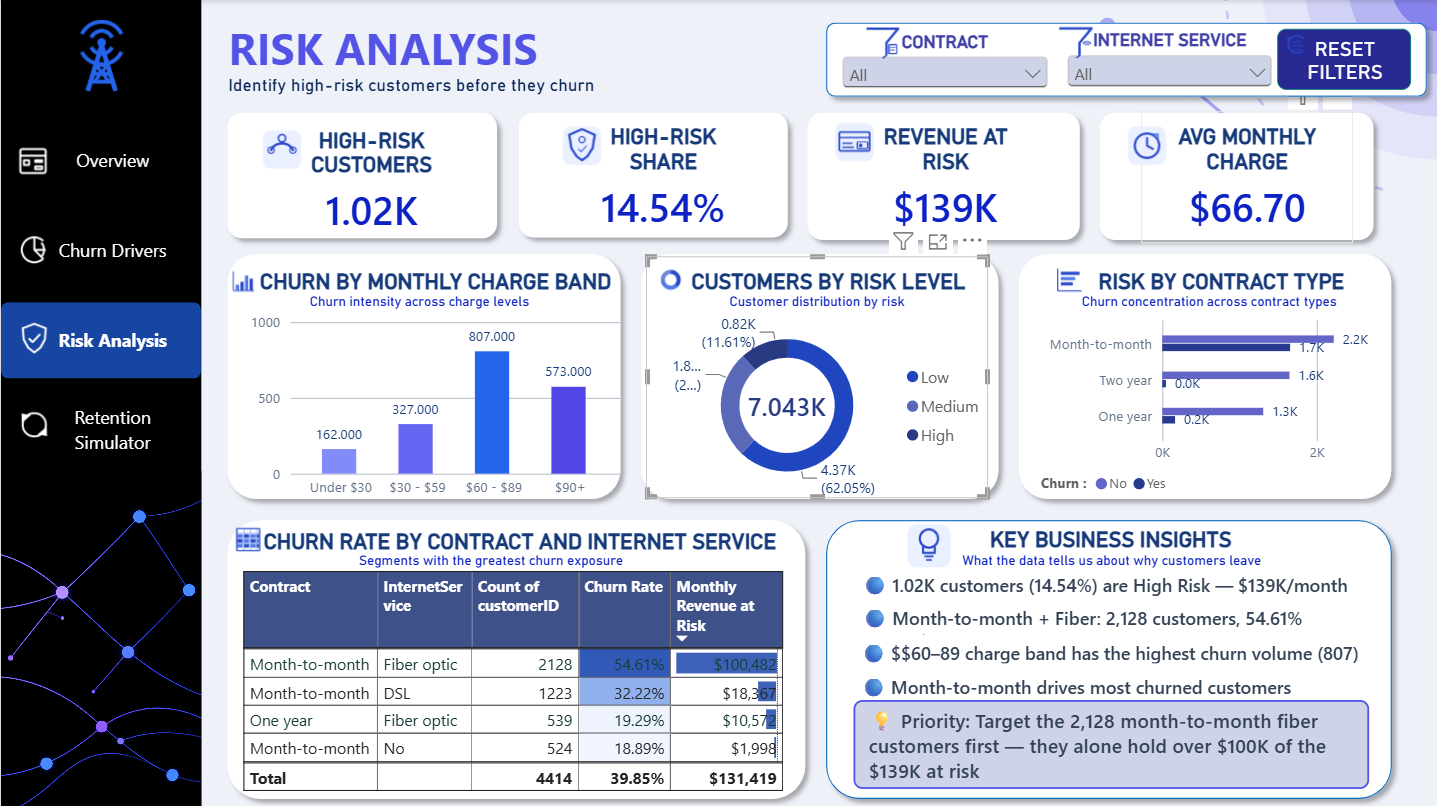

Layout of this report page (visuals, bound fields, positions):
{"tool":"powerbi","page":{"name":"Risk Analysis","canvas":[1280,720],"ordinal":2},"visuals":[{"type":"image","box":[947,0,333,170.1],"z":0},{"type":"shape","box":[0,0,178.6,720.2],"z":1000},{"type":"textbox","title":"RISK ANALYSIS","box":[202.2,16.7,338.9,52.2],"z":2000},{"type":"textbox","title":"Identify high-risk customers before they churn","box":[202.7,66.4,540.5,25.3],"z":3000},{"type":"shape","box":[192.7,91.8,258.2,130],"z":4000},{"type":"shape","box":[725.5,453.6,521.8,266.4],"z":5000},{"type":"textbox","title":"KEY BUSINESS INSIGHTS","box":[869.8,470,237.7,25.3],"z":6000},{"type":"textbox","title":"What the data tells us about why customers leave","box":[828.8,492.2,319.7,25.3],"z":7000},{"type":"cardVisual","title":"HIGH-RISK CUSTOMERS","fields":{"Data":["_Measures.High Risk Customers"]},"box":[236.5,102.5,188.2,118.2],"z":8000},{"type":"shape","box":[451.5,91.5,257.7,129.2],"z":9000},{"type":"shape","box":[970,91.7,261.8,131.5],"z":10000},{"type":"shape","box":[709.4,91.7,260.6,131.5],"z":11000},{"type":"cardVisual","title":"HIGH-RISK SHARE","fields":{"Data":["_Measures.High Risk Share"]},"box":[517.6,98.9,144.8,118.2],"z":12000},{"type":"cardVisual","title":"REVENUE AT RISK","fields":{"Data":["_Measures.Monthly Revenue at Risk"]},"box":[766.1,98.9,150.8,118.2],"z":13000},{"type":"cardVisual","title":"AVG MONTHLY CHARGE","fields":{"Data":["_Measures.Avg Monthly Charge - High Risk"]},"box":[1015,98.8,189.4,118.2],"z":14000},{"type":"shape","box":[726,11,553,84],"z":15000},{"type":"slicer","title":"CONTRACT","fields":{"Values":["Telco_Churn.Contract"]},"box":[745,20,191.8,67.6],"z":16000},{"type":"slicer","title":"INTERNET SERVICE","fields":{"Values":["Telco_Churn.InternetService"]},"box":[945,19.2,191.7,67.5],"z":17000},{"type":"shape","box":[192.7,217.3,368.2,236.4],"z":18000},{"type":"shape","box":[560.9,217.3,336.4,236.4],"z":19000},{"type":"clusteredColumnChart","title":"CHURN BY MONTHLY CHARGE BAND","fields":{"Category":["Telco_Churn.Monthly Charge Band"],"Y":["_Measures.Churned Customers"]},"box":[202.3,227.9,348.8,218.6],"z":20000},{"type":"shape","box":[897.3,217.3,350,236.4],"z":21000},{"type":"clusteredBarChart","title":"RISK BY CONTRACT TYPE","fields":{"Category":["Telco_Churn.Contract"],"Series":["Telco_Churn.Churn"],"Y":["_Measures.Total Customers"]},"box":[906,228,341.4,216],"z":22000},{"type":"textbox","title":"Churn concentration across contract types","box":[944.6,261.8,261.8,25.3],"z":23000},{"type":"shape","box":[192.7,453.6,532.7,266.4],"z":24000},{"type":"tableEx","title":"CHURN RATE BY CONTRACT AND INTERNET SERVICE","fields":{"Values":["Telco_Churn.Contract","Telco_Churn.InternetService","Telco_Churn.customerID","_Measures.Churn Rate","_Measures.Monthly Revenue at Risk"]},"box":[212.3,470.5,497.1,237.7],"z":25000},{"type":"textbox","title":"Segments with the greatest churn exposure","box":[289.5,492.2,294,25],"z":26000},{"type":"actionButton","title":"RESET FILTERS","box":[1136.7,26,119.2,54.2],"z":27000},{"type":"actionButton","box":[226.8,106.2,46.2,55],"z":28000},{"type":"actionButton","box":[494.6,102.5,46.2,55],"z":29000},{"type":"actionButton","box":[737.1,98.9,46.2,55],"z":30000},{"type":"actionButton","box":[997.7,102.5,46.2,55],"z":31000},{"type":"actionButton","box":[799.9,459.7,51.9,45.8],"z":32000},{"type":"actionButton","box":[761.3,13.3,47.1,41],"z":33000},{"type":"actionButton","box":[932.6,13.3,48.3,38.6],"z":34000},{"type":"actionButton","box":[1136.7,13.3,35,40.8],"z":35000},{"type":"donutChart","title":"CUSTOMERS BY RISK LEVEL","fields":{"Category":["Telco_Churn.Risk Level"],"Y":["CountNonNull(Telco_Churn.customerID)"]},"box":[574.3,228,305.2,216],"z":36000},{"type":"textbox","title":"Customer distribution by risk","box":[596,261.8,262.3,16.9],"z":37000},{"type":"textbox","title":"Churn intensity across charge levels","box":[241.3,261.8,262.3,16.9],"z":38000},{"type":"textbox","title":"🔵 1.02K customers (14.54%) are High Risk — $139K/month","box":[761.3,510.3,452.4,29],"z":39000},{"type":"textbox","title":"🔵 Month-to-month + Fiber: 2,128 customers, 54.61% churn, $100K at risk","box":[761.3,539.3,446.7,26.7],"z":40000},{"type":"textbox","title":"🔵 $$60–89 charge band has the highest churn volume (807)","box":[760.1,569.4,457.2,20.5],"z":41000},{"type":"textbox","title":"🔵 Month-to-month drives most churned customers across contract types","box":[760.1,599.6,436.7,20.5],"z":42000},{"type":"textbox","title":"💡 Priority: Target the 2,128 month-to-month fiber customers first — they alone hold over $100K of the $139K at risk","box":[759.2,623,459.3,79.1],"z":43000},{"type":"actionButton","box":[199.1,223.6,33.6,46.4],"z":44000},{"type":"actionButton","box":[577.9,223.2,37.4,51.9],"z":45000},{"type":"actionButton","box":[932.6,223.2,37.4,51.9],"z":46000},{"type":"actionButton","box":[201.8,453.6,37.3,45.5],"z":47000},{"type":"pageNavigator","box":[0,108.6,178.6,311],"z":48000},{"type":"actionButton","box":[6,117,45.8,53.1],"z":49000},{"type":"actionButton","box":[6.2,195.4,45.8,53.1],"z":50000},{"type":"actionButton","box":[6.2,275.4,45.8,53.1],"z":51000},{"type":"actionButton","box":[6.2,352.3,45.8,53.1],"z":52000},{"type":"actionButton","box":[14.5,6,149.6,98.9],"z":53000},{"type":"image","box":[0,419.6,178.6,300.4],"z":54000}]}

Visuals, with their boxes on the page's 1280x720 design canvas (x1, y1, x2, y2). These are canvas units, not pixel positions in the 1437x806 screenshot, which may show the page scaled, cropped or inside an application window:
image: {"left": 947, "top": 0, "right": 1280, "bottom": 170}
shape: {"left": 0, "top": 0, "right": 179, "bottom": 720}
"RISK ANALYSIS" textbox: {"left": 202, "top": 17, "right": 541, "bottom": 69}
"Identify high-risk customers before they churn" textbox: {"left": 203, "top": 66, "right": 743, "bottom": 92}
shape: {"left": 193, "top": 92, "right": 451, "bottom": 222}
shape: {"left": 726, "top": 454, "right": 1247, "bottom": 720}
"KEY BUSINESS INSIGHTS" textbox: {"left": 870, "top": 470, "right": 1108, "bottom": 495}
"What the data tells us about why customers leave" textbox: {"left": 829, "top": 492, "right": 1148, "bottom": 518}
"HIGH-RISK CUSTOMERS" cardVisual: {"left": 236, "top": 102, "right": 425, "bottom": 221}
shape: {"left": 452, "top": 92, "right": 709, "bottom": 221}
shape: {"left": 970, "top": 92, "right": 1232, "bottom": 223}
shape: {"left": 709, "top": 92, "right": 970, "bottom": 223}
"HIGH-RISK SHARE" cardVisual: {"left": 518, "top": 99, "right": 662, "bottom": 217}
"REVENUE AT RISK" cardVisual: {"left": 766, "top": 99, "right": 917, "bottom": 217}
"AVG MONTHLY CHARGE" cardVisual: {"left": 1015, "top": 99, "right": 1204, "bottom": 217}
shape: {"left": 726, "top": 11, "right": 1279, "bottom": 95}
"CONTRACT" slicer: {"left": 745, "top": 20, "right": 937, "bottom": 88}
"INTERNET SERVICE" slicer: {"left": 945, "top": 19, "right": 1137, "bottom": 87}
shape: {"left": 193, "top": 217, "right": 561, "bottom": 454}
shape: {"left": 561, "top": 217, "right": 897, "bottom": 454}
"CHURN BY MONTHLY CHARGE BAND" clusteredColumnChart: {"left": 202, "top": 228, "right": 551, "bottom": 446}
shape: {"left": 897, "top": 217, "right": 1247, "bottom": 454}
"RISK BY CONTRACT TYPE" clusteredBarChart: {"left": 906, "top": 228, "right": 1247, "bottom": 444}
"Churn concentration across contract types" textbox: {"left": 945, "top": 262, "right": 1206, "bottom": 287}
shape: {"left": 193, "top": 454, "right": 725, "bottom": 720}
"CHURN RATE BY CONTRACT AND INTERNET SERVICE" tableEx: {"left": 212, "top": 470, "right": 709, "bottom": 708}
"Segments with the greatest churn exposure" textbox: {"left": 290, "top": 492, "right": 584, "bottom": 517}
"RESET FILTERS" actionButton: {"left": 1137, "top": 26, "right": 1256, "bottom": 80}
actionButton: {"left": 227, "top": 106, "right": 273, "bottom": 161}
actionButton: {"left": 495, "top": 102, "right": 541, "bottom": 158}
actionButton: {"left": 737, "top": 99, "right": 783, "bottom": 154}
actionButton: {"left": 998, "top": 102, "right": 1044, "bottom": 158}
actionButton: {"left": 800, "top": 460, "right": 852, "bottom": 506}
actionButton: {"left": 761, "top": 13, "right": 808, "bottom": 54}
actionButton: {"left": 933, "top": 13, "right": 981, "bottom": 52}
actionButton: {"left": 1137, "top": 13, "right": 1172, "bottom": 54}
"CUSTOMERS BY RISK LEVEL" donutChart: {"left": 574, "top": 228, "right": 880, "bottom": 444}
"Customer distribution by risk" textbox: {"left": 596, "top": 262, "right": 858, "bottom": 279}
"Churn intensity across charge levels" textbox: {"left": 241, "top": 262, "right": 504, "bottom": 279}
"🔵 1.02K customers (14.54%) are High Risk — $139K/month" textbox: {"left": 761, "top": 510, "right": 1214, "bottom": 539}
"🔵 Month-to-month + Fiber: 2,128 customers, 54.61% churn, $100K at risk" textbox: {"left": 761, "top": 539, "right": 1208, "bottom": 566}
"🔵 $$60–89 charge band has the highest churn volume (807)" textbox: {"left": 760, "top": 569, "right": 1217, "bottom": 590}
"🔵 Month-to-month drives most churned customers across contract types" textbox: {"left": 760, "top": 600, "right": 1197, "bottom": 620}
"💡 Priority: Target the 2,128 month-to-month fiber customers first — they alone hold over $100K of the $139K at risk" textbox: {"left": 759, "top": 623, "right": 1218, "bottom": 702}
actionButton: {"left": 199, "top": 224, "right": 233, "bottom": 270}
actionButton: {"left": 578, "top": 223, "right": 615, "bottom": 275}
actionButton: {"left": 933, "top": 223, "right": 970, "bottom": 275}
actionButton: {"left": 202, "top": 454, "right": 239, "bottom": 499}
pageNavigator: {"left": 0, "top": 109, "right": 179, "bottom": 420}
actionButton: {"left": 6, "top": 117, "right": 52, "bottom": 170}
actionButton: {"left": 6, "top": 195, "right": 52, "bottom": 248}
actionButton: {"left": 6, "top": 275, "right": 52, "bottom": 328}
actionButton: {"left": 6, "top": 352, "right": 52, "bottom": 405}
actionButton: {"left": 14, "top": 6, "right": 164, "bottom": 105}
image: {"left": 0, "top": 420, "right": 179, "bottom": 720}
